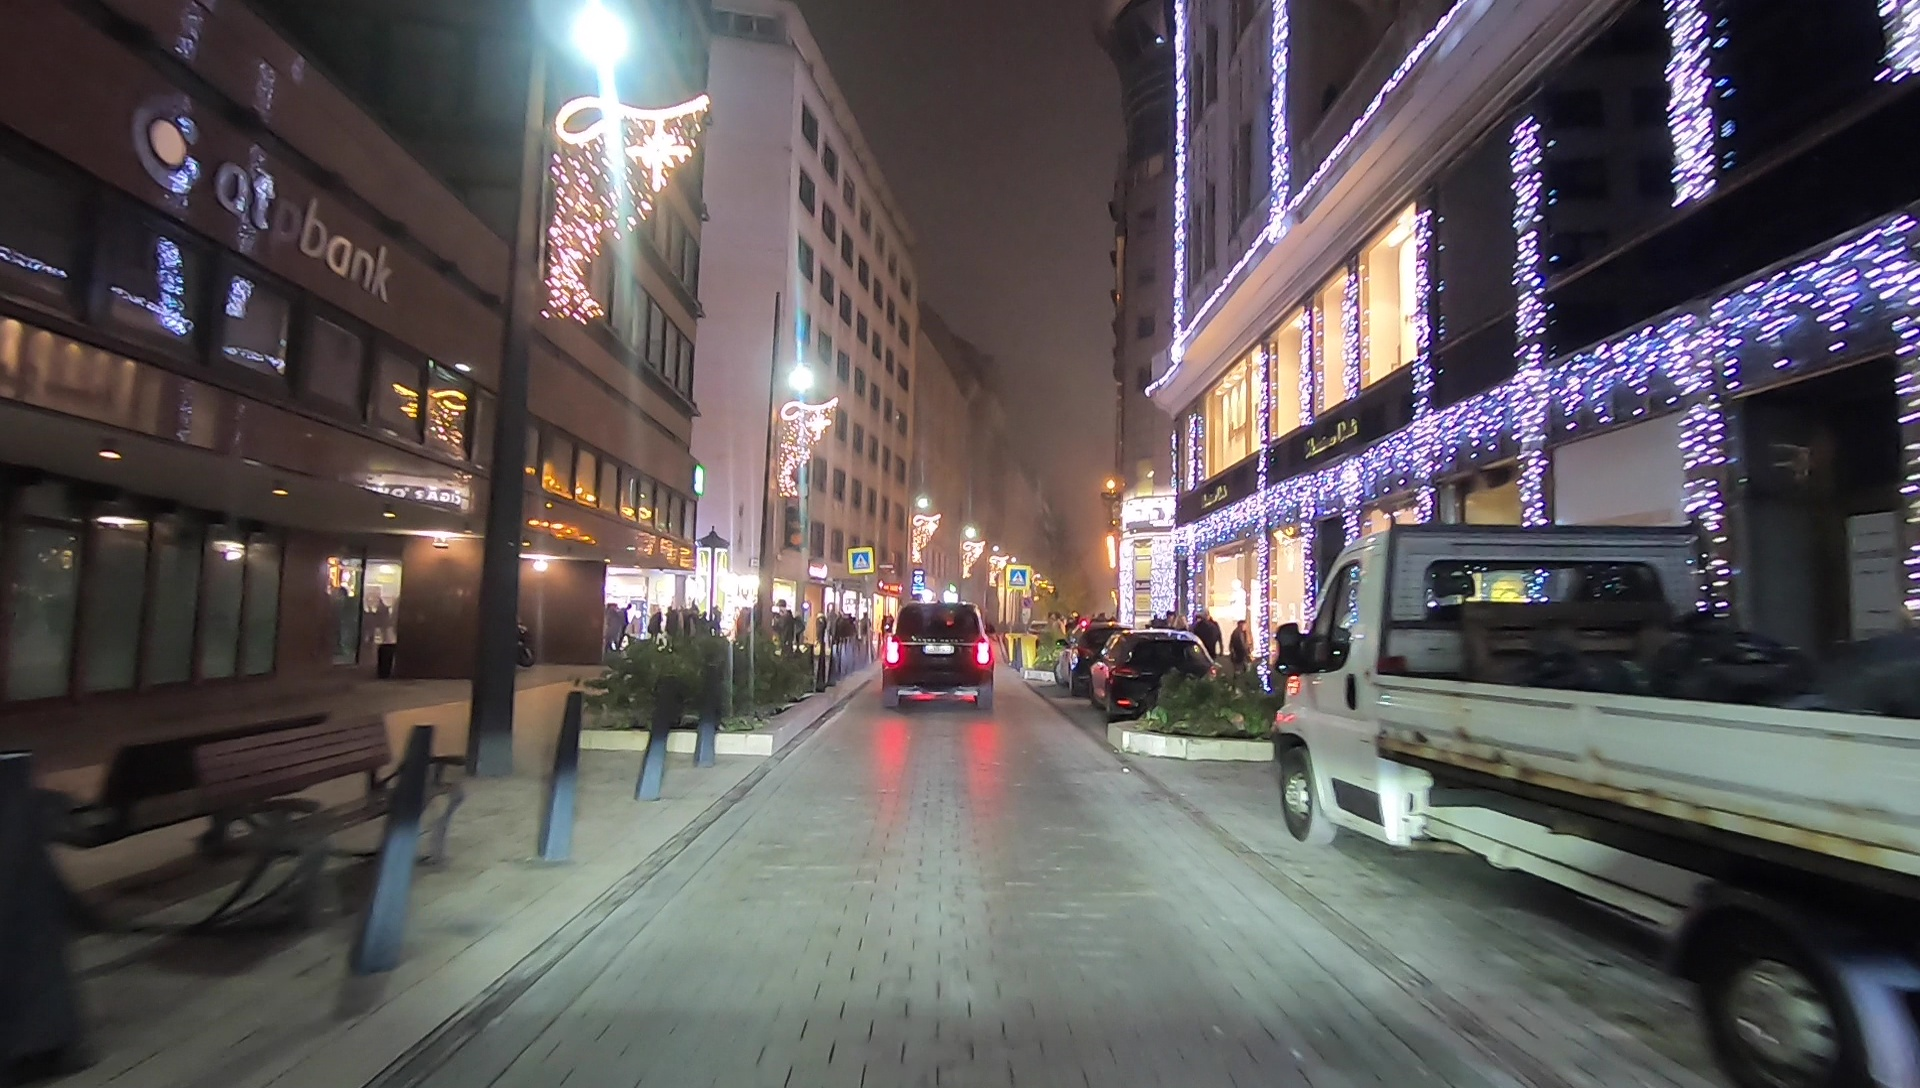person: (1194, 611, 1226, 684), (1230, 621, 1252, 678)
